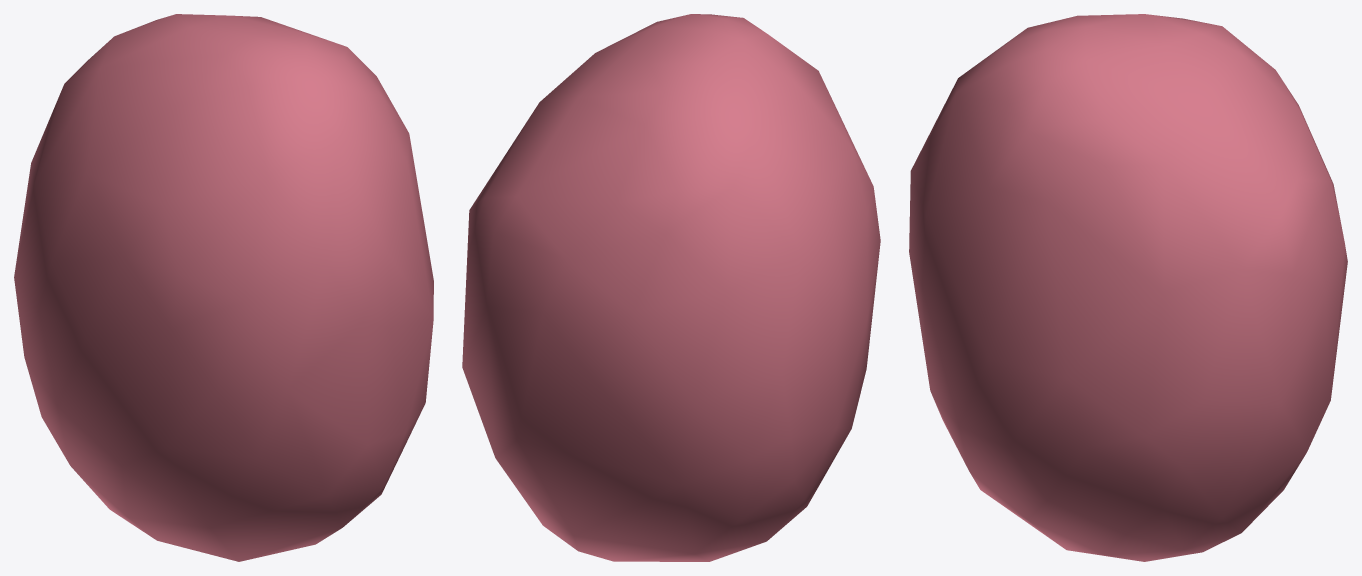
File: Testicle_right.glb
The picture shows the model from 3 angles, left to right: view 1: azimuth 30°, elevation 25°; view 2: azimuth 150°, elevation 25°; view 3: azimuth 270°, elevation 25°; orthographic projection. The views are drawn at different scales.
Visible parts, largest first — view 1: Testicle.r_Generated_Mesh_From_X3D.752; view 2: Testicle.r_Generated_Mesh_From_X3D.752; view 3: Testicle.r_Generated_Mesh_From_X3D.752.
Part boxes in pixels (<box>): Testicle.r_Generated_Mesh_From_X3D.752: <box>14,14,433,561</box>; Testicle.r_Generated_Mesh_From_X3D.752: <box>462,14,880,561</box>; Testicle.r_Generated_Mesh_From_X3D.752: <box>909,14,1347,561</box>.
Bounding box in the file's own units: 0.0214 × 0.0297 × 0.0233.
